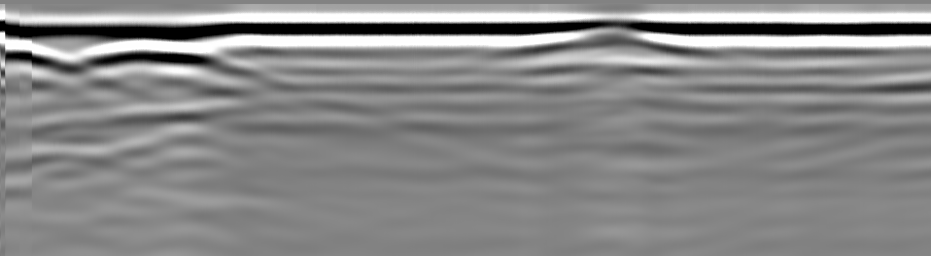pipe: (542, 19, 688, 54)
steel: (77, 39, 228, 75)
